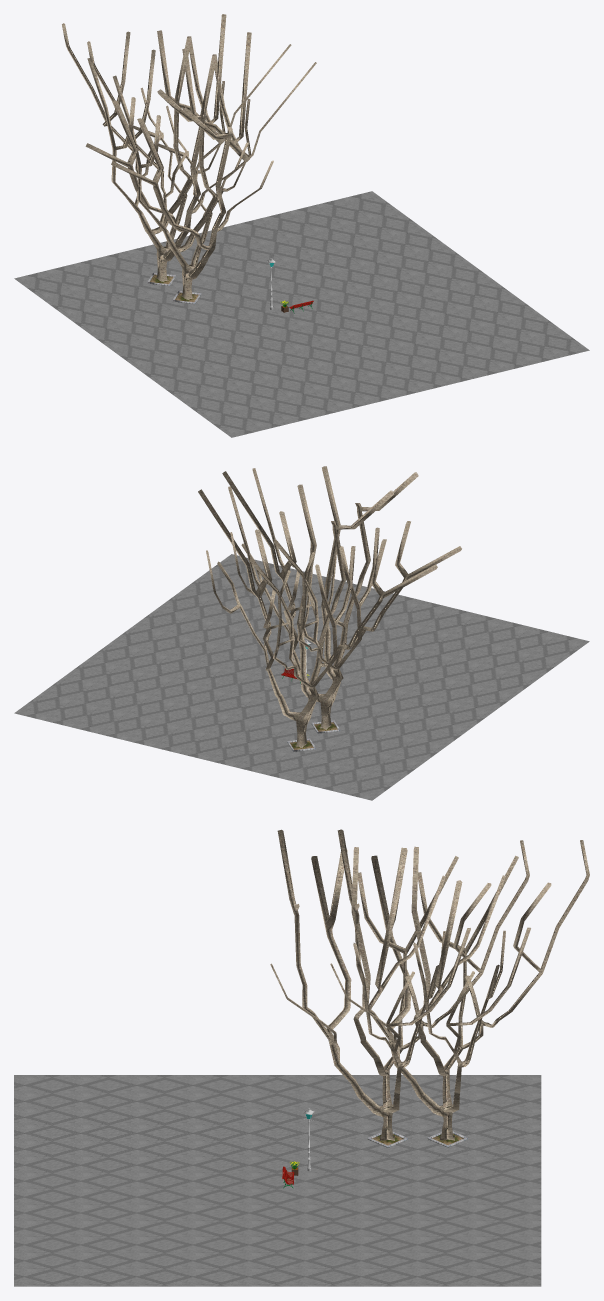
Rendered from bench.obj.
The picture shows the model from 3 angles, top to bottom: view 1: azimuth 30°, elevation 25°; view 2: azimuth 150°, elevation 25°; view 3: azimuth 270°, elevation 25°; orthographic projection. The views are drawn at different scales.
Visible parts, largest first — view 1: group4 pPlane1, group4 pasted__group6 pasted__Arvore2 pasted__ramo_principal45, group4 pasted__group6 pasted__Arvore3 pasted__ramo_principal45; view 2: group4 pPlane1, group4 pasted__group6 pasted__Arvore3 pasted__ramo_principal45, group4 pasted__group6 pasted__Arvore2 pasted__ramo_principal45; view 3: group4 pPlane1, group4 pasted__group6 pasted__Arvore2 pasted__ramo_principal45, group4 pasted__group6 pasted__Arvore3 pasted__ramo_principal45.
Boxes of the visible parts, x1,y1,x2,y2 form: group4 pPlane1: (14,191,589,437); group4 pasted__group6 pasted__Arvore2 pasted__ramo_principal45: (87,32,316,299); group4 pasted__group6 pasted__Arvore3 pasted__ramo_principal45: (62,14,291,281); group4 pPlane1: (14,554,589,800); group4 pasted__group6 pasted__Arvore3 pasted__ramo_principal45: (198,484,437,747); group4 pasted__group6 pasted__Arvore2 pasted__ramo_principal45: (222,466,461,729); group4 pPlane1: (14,1075,541,1286); group4 pasted__group6 pasted__Arvore2 pasted__ramo_principal45: (270,829,529,1140); group4 pasted__group6 pasted__Arvore3 pasted__ramo_principal45: (330,829,589,1140).
Bounding box in the file's own units: 316 × 210 × 363.
